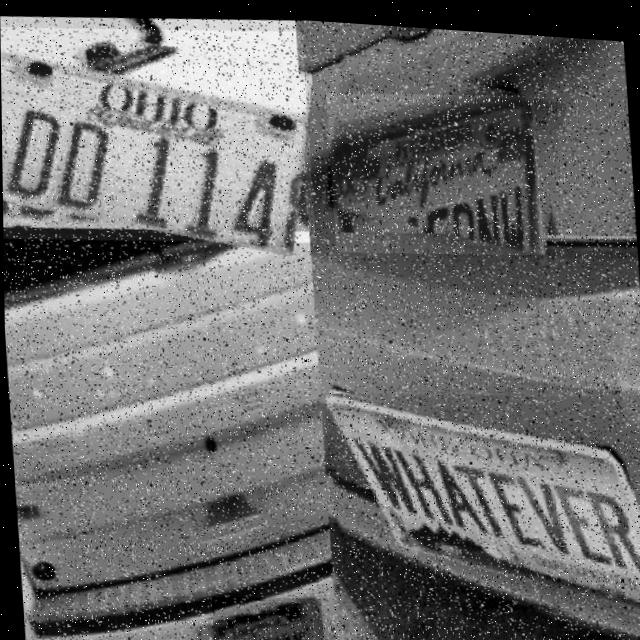LicensePlate: (0, 11, 316, 254), (323, 389, 640, 598), (330, 89, 544, 248), (209, 588, 322, 640)
